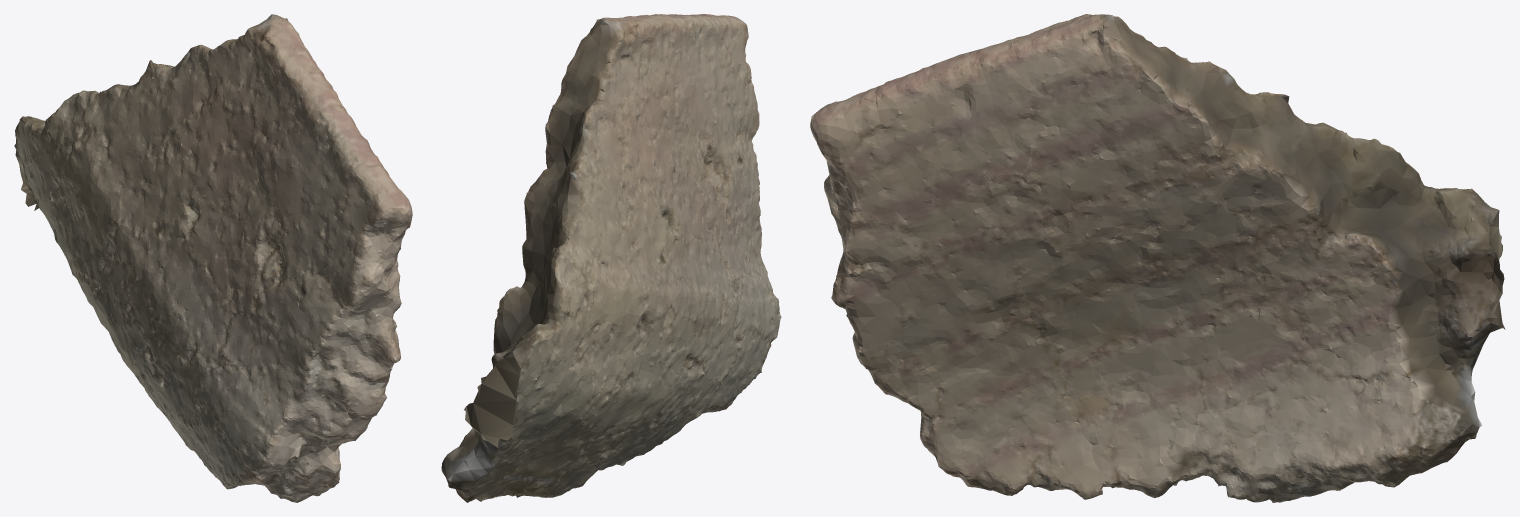
File: glb_LOD01105.glb
3 views of the same model, side by side, from view 1: azimuth 30°, elevation 25°; view 2: azimuth 150°, elevation 25°; view 3: azimuth 270°, elevation 25° (orthographic). The views are drawn at different scales.
Visible parts, largest first — view 1: Mesh_0_Part_0; view 2: Mesh_0_Part_0; view 3: Mesh_0_Part_0.
Boxes of the visible parts, left/top/right/bottom form: Mesh_0_Part_0: left=14, top=14, right=412, bottom=502; Mesh_0_Part_0: left=441, top=14, right=781, bottom=502; Mesh_0_Part_0: left=810, top=14, right=1505, bottom=502.
Bounding box in the file's own units: 5.5 × 17.36 × 22.07.
